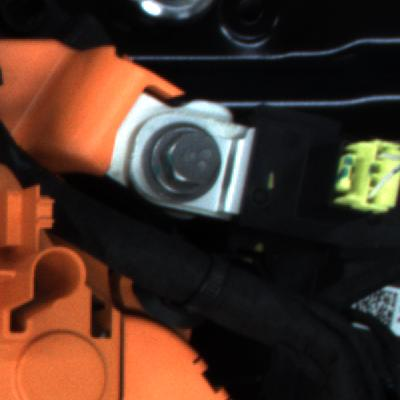nut_b: (141, 120, 237, 214)
